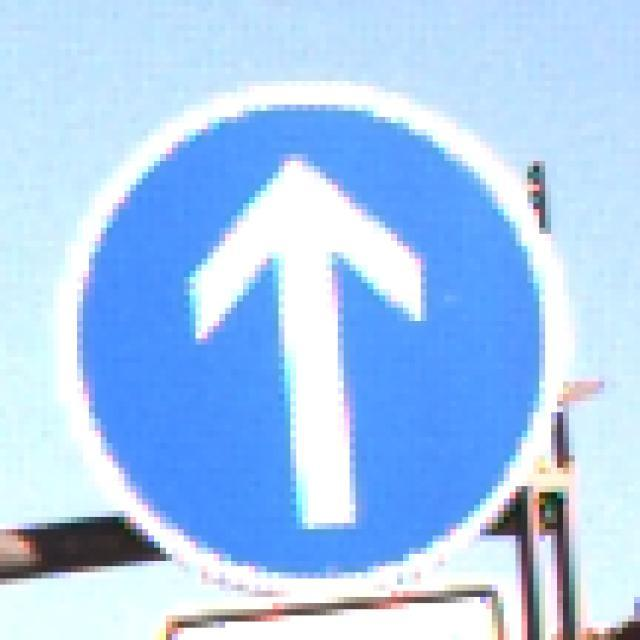compulsary ahead: (65, 79, 585, 607)
